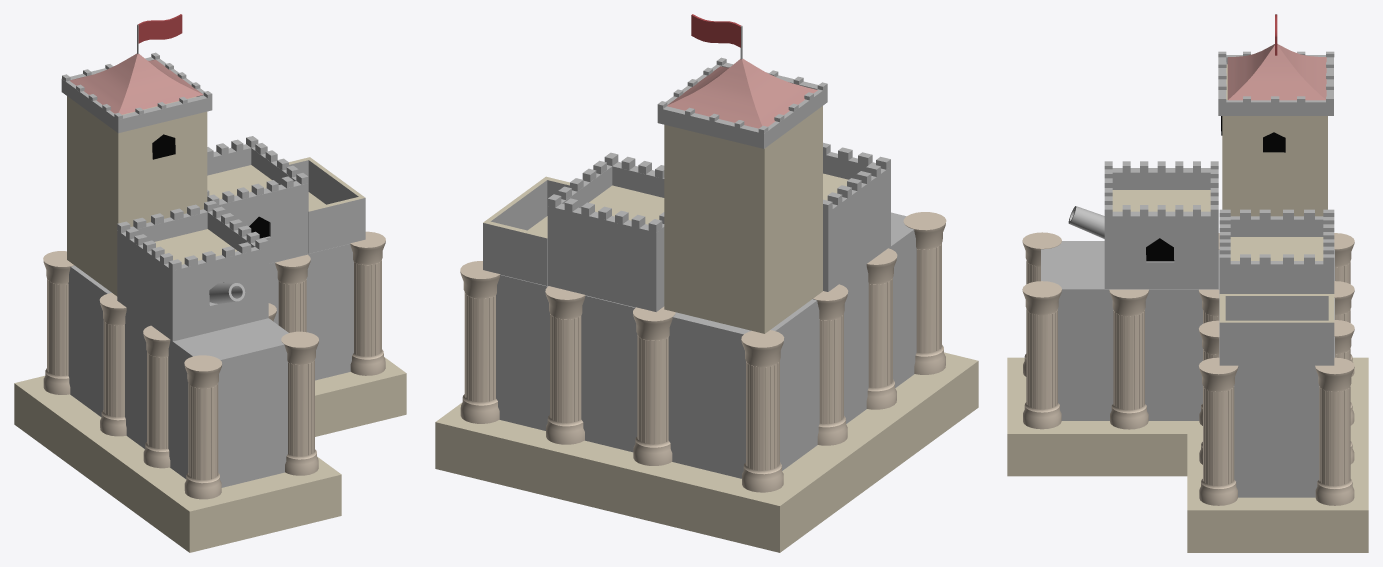
Rendered from attack tower 1.fbx.
3 renders of one model, left to right at view 1: azimuth 30°, elevation 25°; view 2: azimuth 150°, elevation 25°; view 3: azimuth 270°, elevation 25°, orthographic. The views are drawn at different scales.
Parts seen in each view (by area): view 1: polySurface94; view 2: polySurface94; view 3: polySurface94.
Boxes of the visible parts, x1,y1,x2,y2 form: polySurface94: [14, 14, 406, 552]; polySurface94: [435, 14, 978, 552]; polySurface94: [1007, 14, 1368, 552].
Size of the model in its own units: 0.5686 by 0.7398 by 0.5677.
